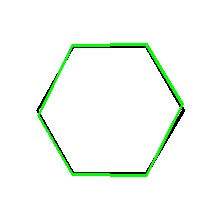line_segment: (36, 44, 185, 176)
